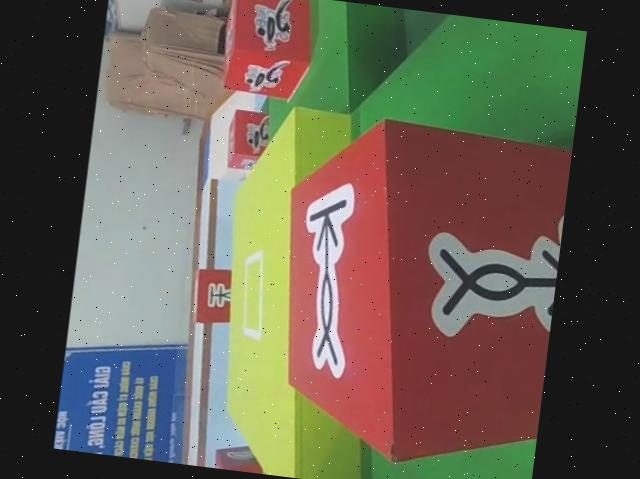R1: (213, 0, 321, 104), (222, 106, 275, 171)
R2 Real: (256, 105, 574, 477), (209, 444, 273, 475)
